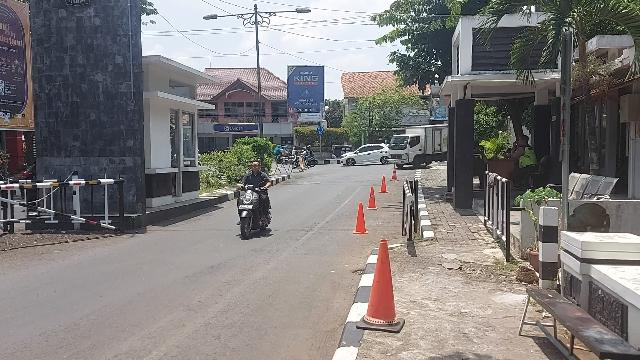motor: (237, 187, 274, 239)
non-helm: (253, 162, 262, 173)
